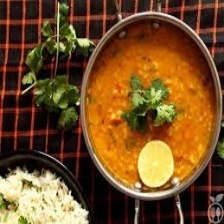dal: (83, 20, 219, 193)
